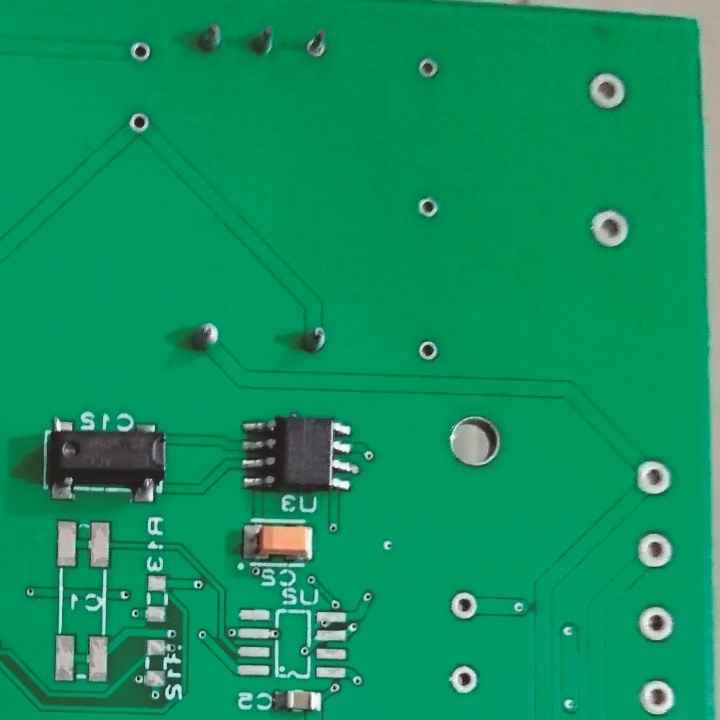F: (590, 203, 632, 251), (636, 455, 673, 506), (587, 72, 632, 113), (636, 600, 676, 646), (636, 527, 673, 575), (636, 677, 676, 716), (447, 589, 481, 623), (448, 665, 482, 697), (304, 27, 331, 63), (126, 112, 153, 138), (132, 40, 153, 69), (417, 197, 441, 222), (416, 57, 440, 80), (415, 340, 440, 362)
